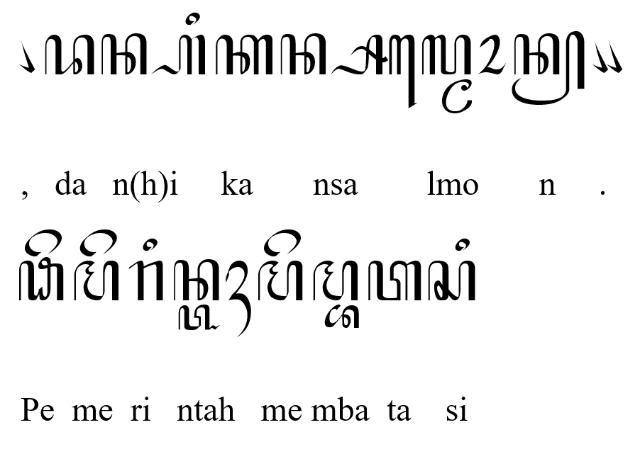-n: (510, 30, 586, 106)
P: (18, 257, 64, 301)
_b: (322, 304, 360, 330)
_h: (150, 34, 206, 76)
_h1: (225, 260, 251, 338)
_m: (442, 80, 472, 114)
_s: (331, 33, 389, 75)
_t: (178, 305, 220, 331)
d: (44, 34, 94, 76)
e: (264, 228, 302, 258), (24, 229, 62, 257), (80, 229, 116, 258)
e1: (389, 33, 418, 109)
i: (454, 236, 470, 251), (142, 238, 158, 252), (186, 11, 200, 25)
k: (216, 34, 274, 76)
kom: (18, 40, 34, 74), (606, 39, 622, 73), (592, 40, 608, 72)
l: (422, 33, 472, 75)
m: (72, 258, 120, 302), (313, 261, 359, 302), (258, 262, 304, 302)
n: (100, 32, 148, 76), (172, 260, 220, 302), (280, 33, 326, 76)
o: (479, 33, 507, 74)
r: (128, 261, 164, 302)
s: (426, 261, 476, 302)
t: (368, 261, 422, 302)
